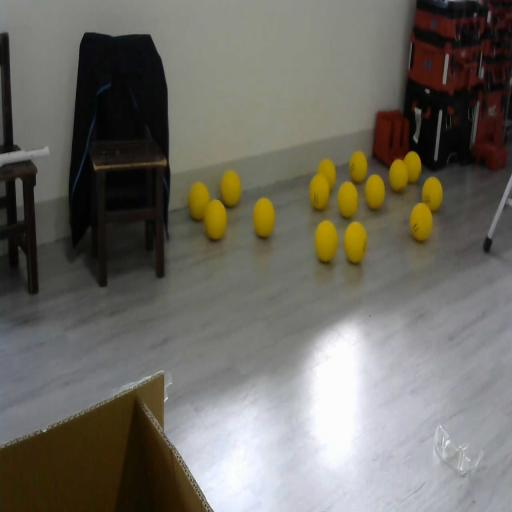FUEL: (314, 218, 338, 264), (343, 220, 368, 264), (252, 196, 275, 238), (409, 202, 433, 242), (204, 199, 227, 240), (220, 168, 242, 208), (188, 182, 210, 220), (364, 173, 386, 210), (336, 181, 358, 218), (422, 176, 442, 212), (349, 150, 368, 184), (317, 158, 336, 191), (404, 151, 422, 183)
